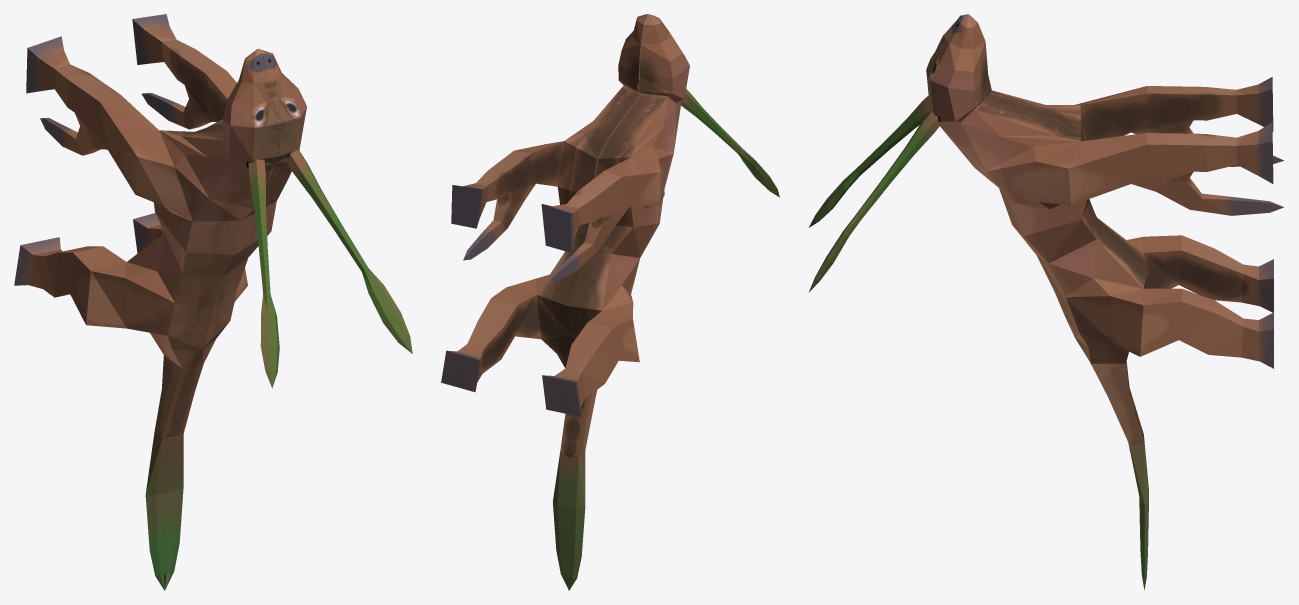
Rendered from MountainAnimal.obj.
3 renders of one model, left to right at view 1: azimuth 30°, elevation 25°; view 2: azimuth 150°, elevation 25°; view 3: azimuth 270°, elevation 25°, orthographic. The views are drawn at different scales.
Visible parts, largest first — view 1: horse_Cube; view 2: horse_Cube; view 3: horse_Cube.
Boxes of the visible parts, x1,y1,x2,y2 form: horse_Cube: (14, 14, 412, 590); horse_Cube: (441, 14, 779, 590); horse_Cube: (808, 14, 1283, 590).
Bounding box in the file's own units: 4.26 × 15.12 × 11.31.
